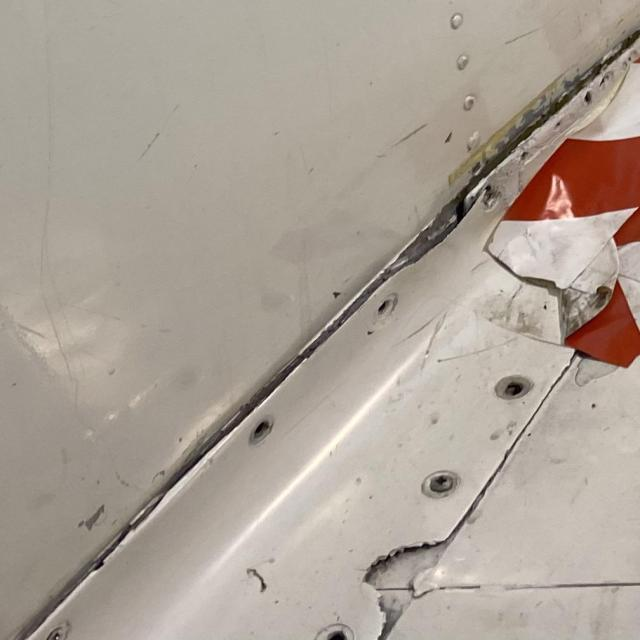Crack: (329, 10, 640, 282), (364, 547, 446, 640)
Missing-head: (494, 378, 535, 403), (248, 422, 273, 448), (376, 296, 398, 320), (314, 628, 352, 640)
Paint-off: (573, 360, 623, 390), (76, 507, 103, 534)
